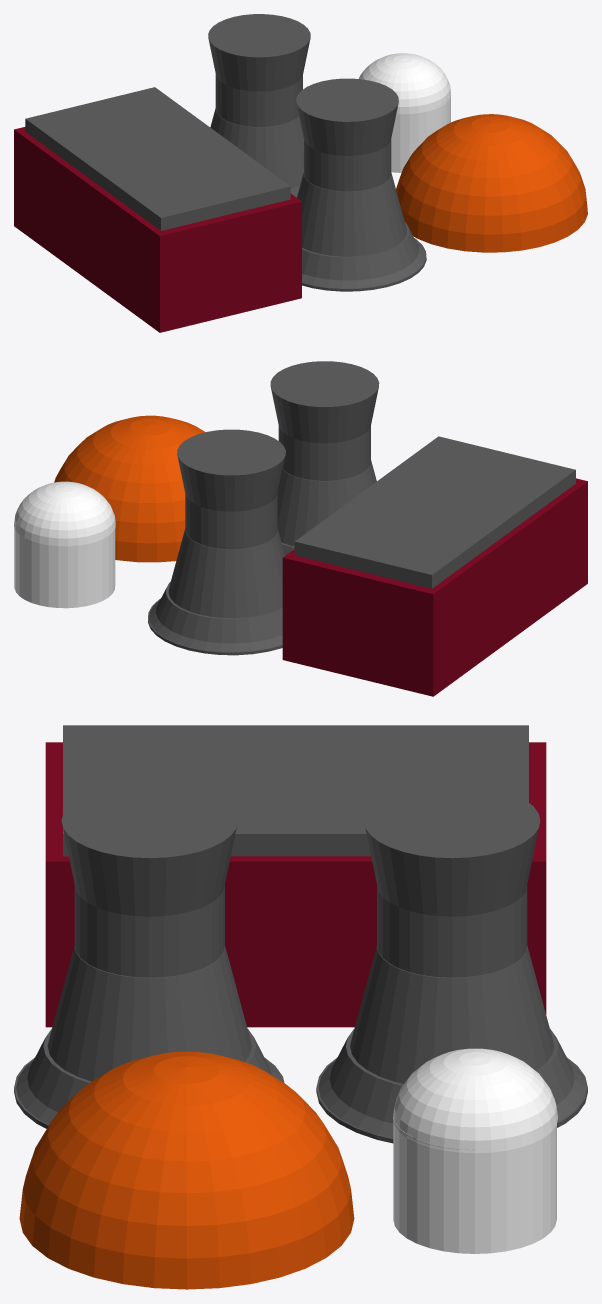
File: nuclear.fbx
3 views of the same model, one above another, from view 1: azimuth 30°, elevation 25°; view 2: azimuth 150°, elevation 25°; view 3: azimuth 270°, elevation 25° (orthographic). The views are drawn at different scales.
Parts seen in each view (by area): view 1: Cube, Sphere, Cube.001, Cylinder.003, Cylinder.006, Cylinder.005, Sphere.001, Cylinder.008, Cylinder.004, Cylinder.007, Cylinder.002, Cylinder.012 (+2 smaller); view 2: Cube, Cube.001, Sphere, Cylinder.008, Cylinder.006, Cylinder.005, Cylinder.012, Sphere.001, Cylinder.003, Cylinder.007, Cylinder.009, Cylinder.004 (+2 smaller); view 3: Sphere, Cube.001, Cube, Cylinder.005, Cylinder.006, Cylinder.008, Cylinder.003, Cylinder.012, Sphere.001, Cylinder.004, Cylinder.007, Cylinder.009 (+4 smaller).
Part boxes in pixels (x1,y1,x2,y2): Cube: (14,127,301,332); Sphere: (396,114,587,252); Cube.001: (25,87,290,230); Cylinder.003: (297,172,406,256); Cylinder.006: (208,14,310,91); Cylinder.005: (296,78,398,155); Sphere.001: (359,53,450,114); Cylinder.008: (210,108,303,187); Cylinder.004: (304,139,391,191); Cylinder.007: (215,74,302,126); Cylinder.002: (302,222,418,280); Cylinder.012: (391,91,450,172); Cube: (282,478,587,696); Cube.001: (294,436,575,588); Sphere: (54,415,205,562); Cylinder.008: (168,529,284,618); Cylinder.006: (177,429,285,511); Cylinder.005: (270,361,379,443); Cylinder.012: (14,527,115,608); Sphere.001: (14,481,115,546); Cylinder.003: (277,460,376,546); Cylinder.007: (185,494,277,549); Cylinder.009: (156,582,282,643); Cylinder.004: (278,426,370,480); Sphere: (19,1051,354,1289); Cube.001: (63,725,528,856); Cube: (45,742,546,1027); Cylinder.005: (61,783,237,916); Cylinder.006: (364,783,540,916); Cylinder.008: (350,946,554,1083); Cylinder.003: (47,946,251,1081); Cylinder.012: (393,1121,556,1253); Sphere.001: (392,1048,557,1153); Cylinder.004: (74,885,224,977); Cylinder.007: (377,885,527,977); Cylinder.009: (329,1029,574,1123).
Bounding box in the file's own units: 13505 × 4489 × 8572.
